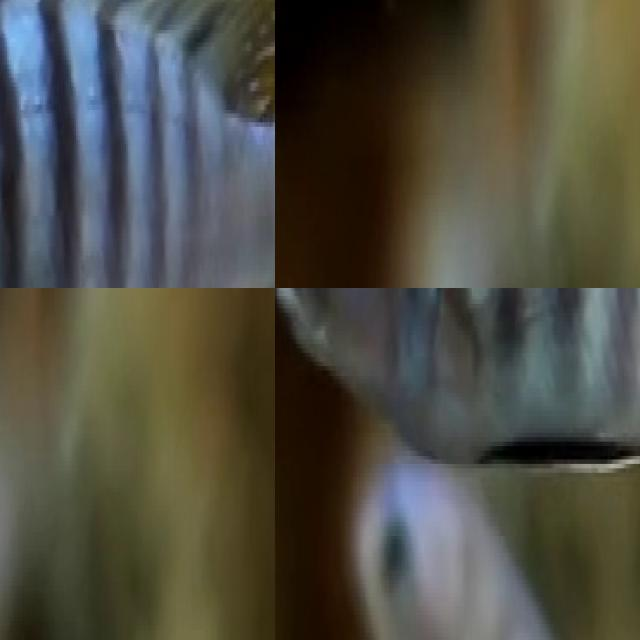fish: (0, 0, 275, 288), (344, 459, 640, 640)
